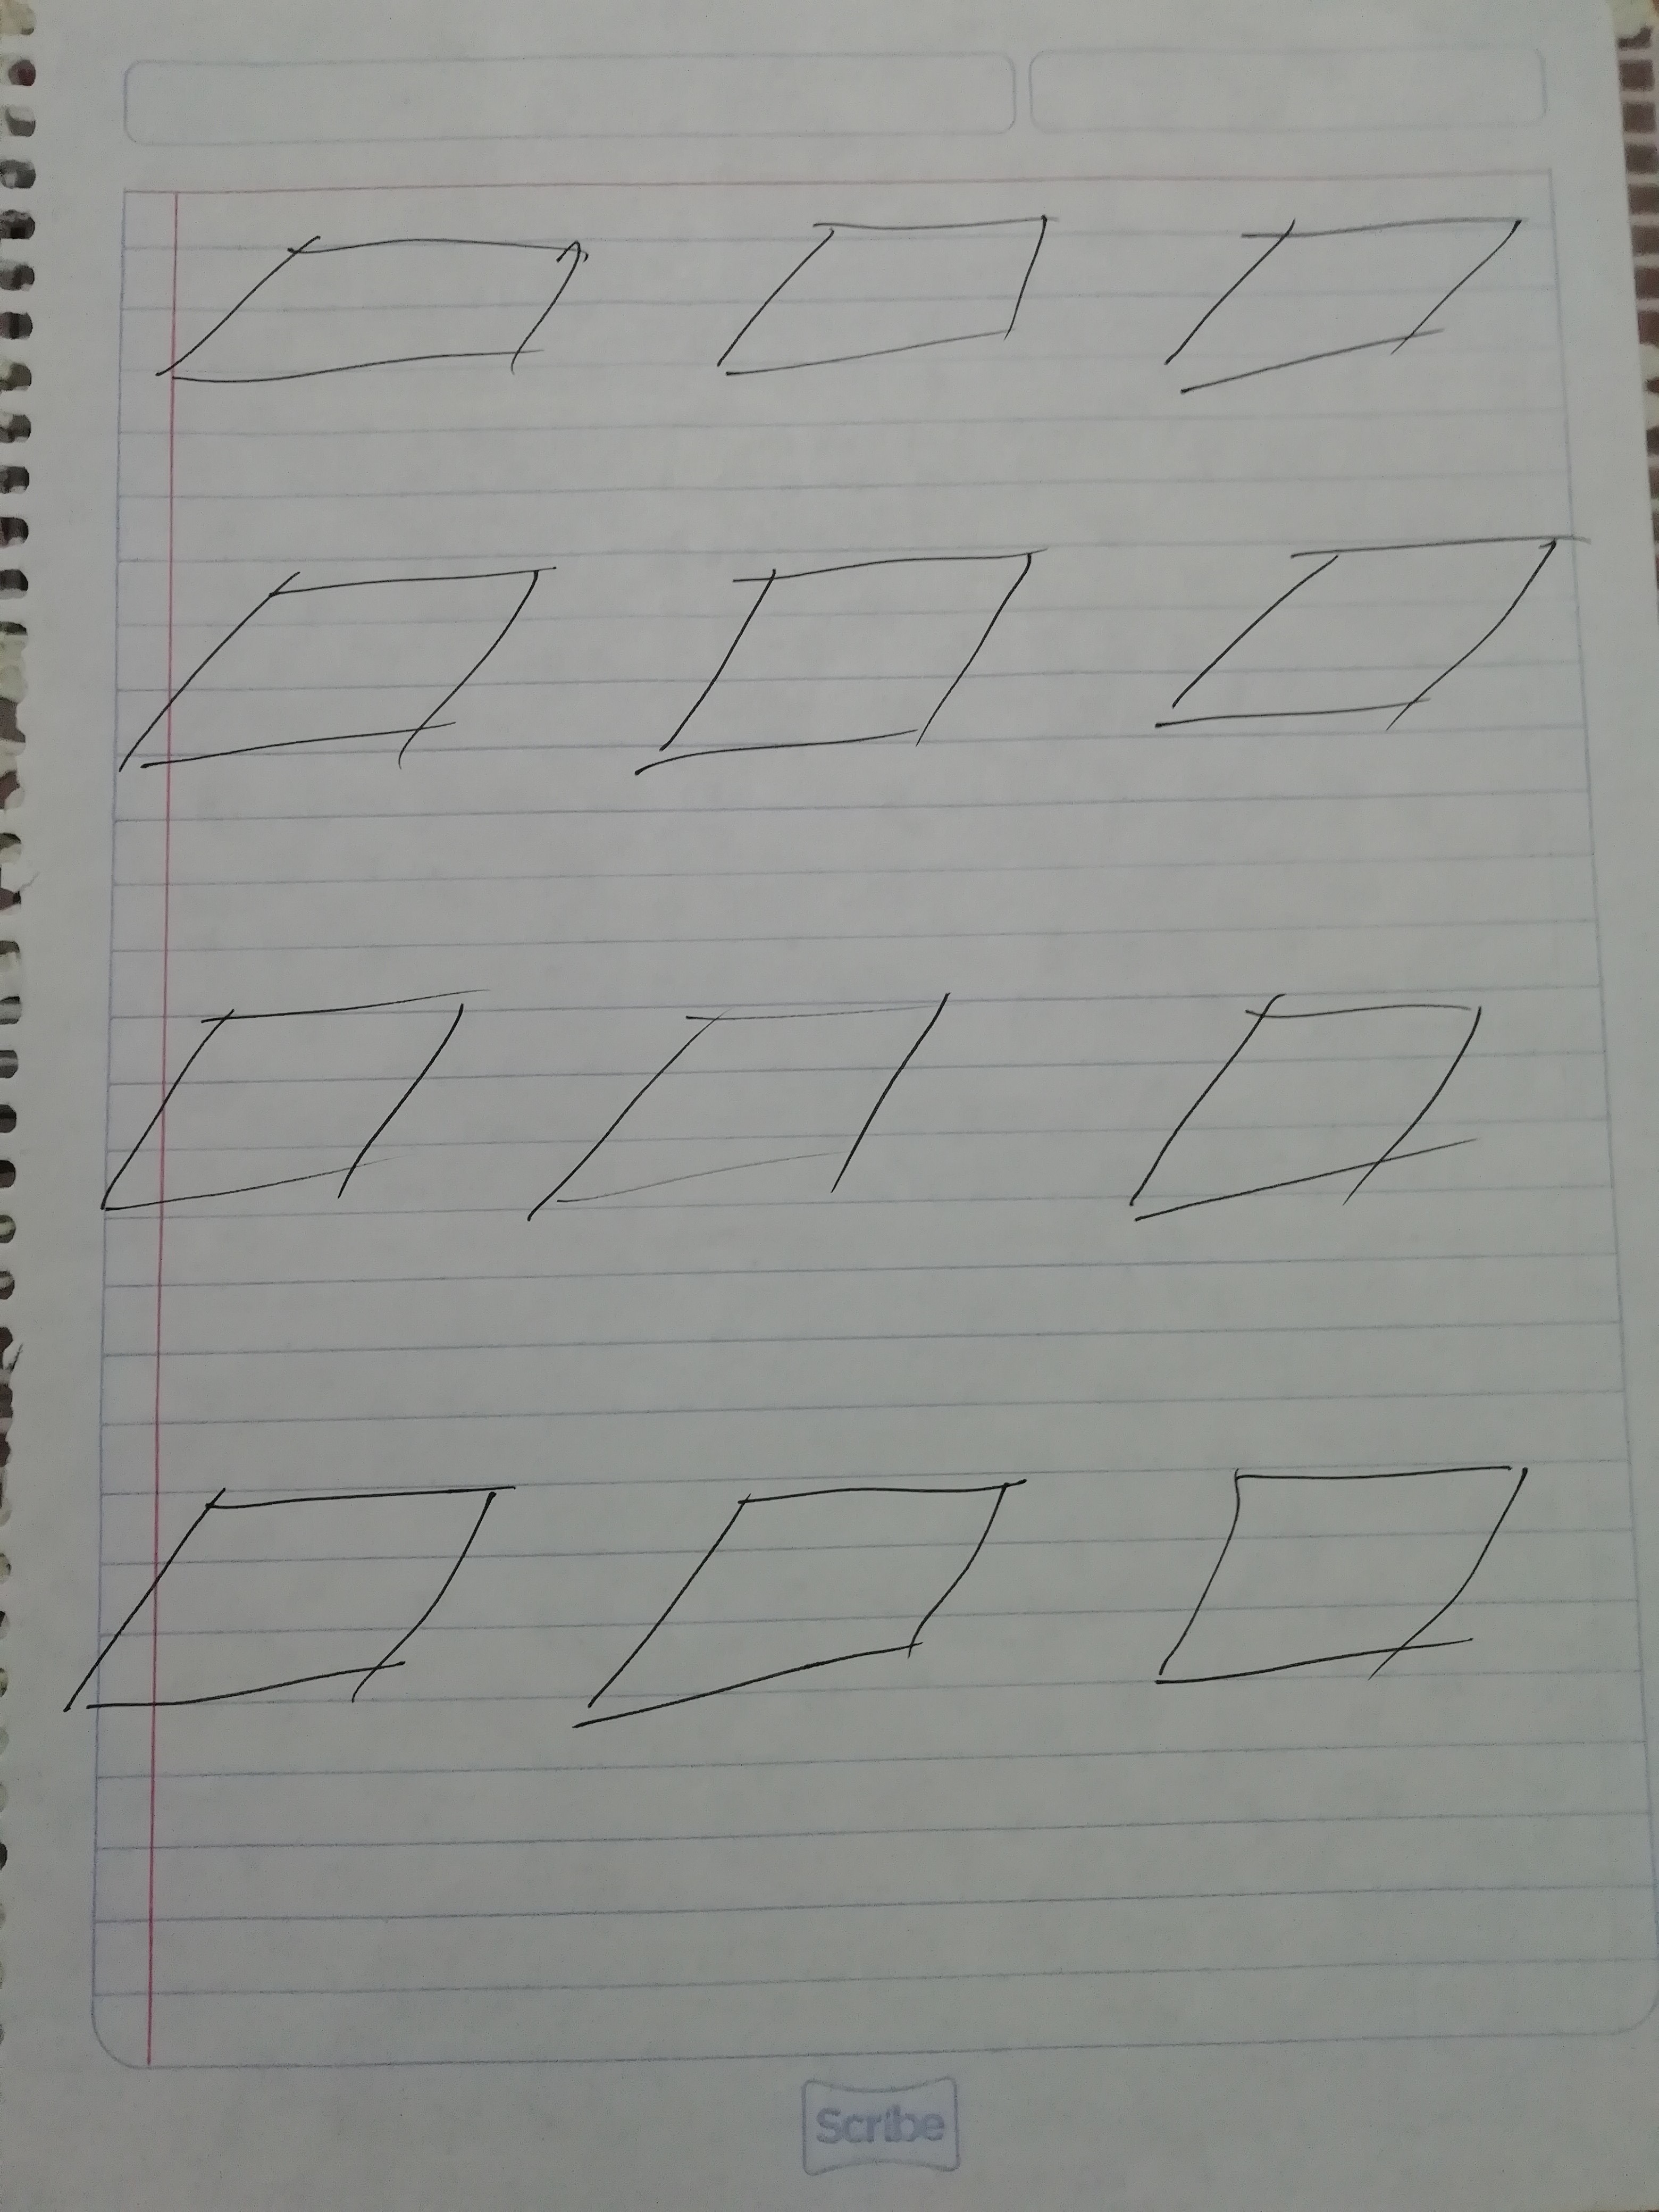scan: (30, 1446, 544, 1757), (558, 1453, 1054, 1757), (66, 528, 568, 826), (108, 152, 619, 435), (505, 975, 976, 1268), (1061, 958, 1544, 1240), (605, 524, 1068, 815), (47, 970, 502, 1258), (1129, 1435, 1572, 1726), (1122, 510, 1614, 761), (1133, 192, 1568, 439), (671, 178, 1082, 404)
